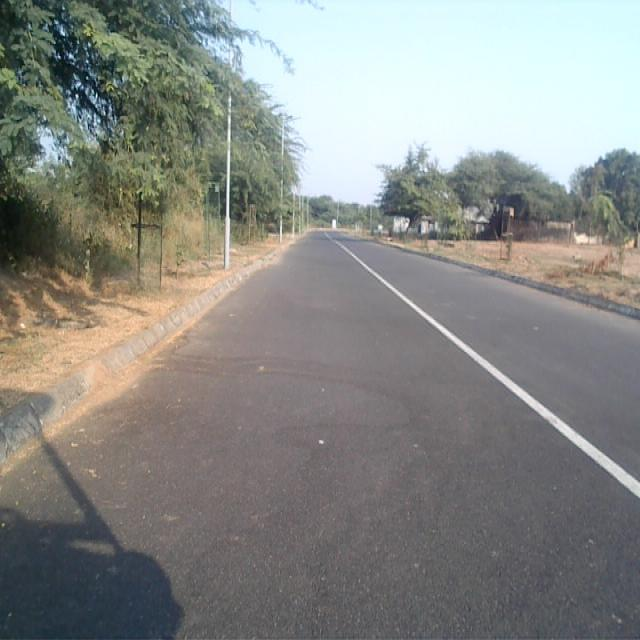lane: (0, 234, 640, 640)
